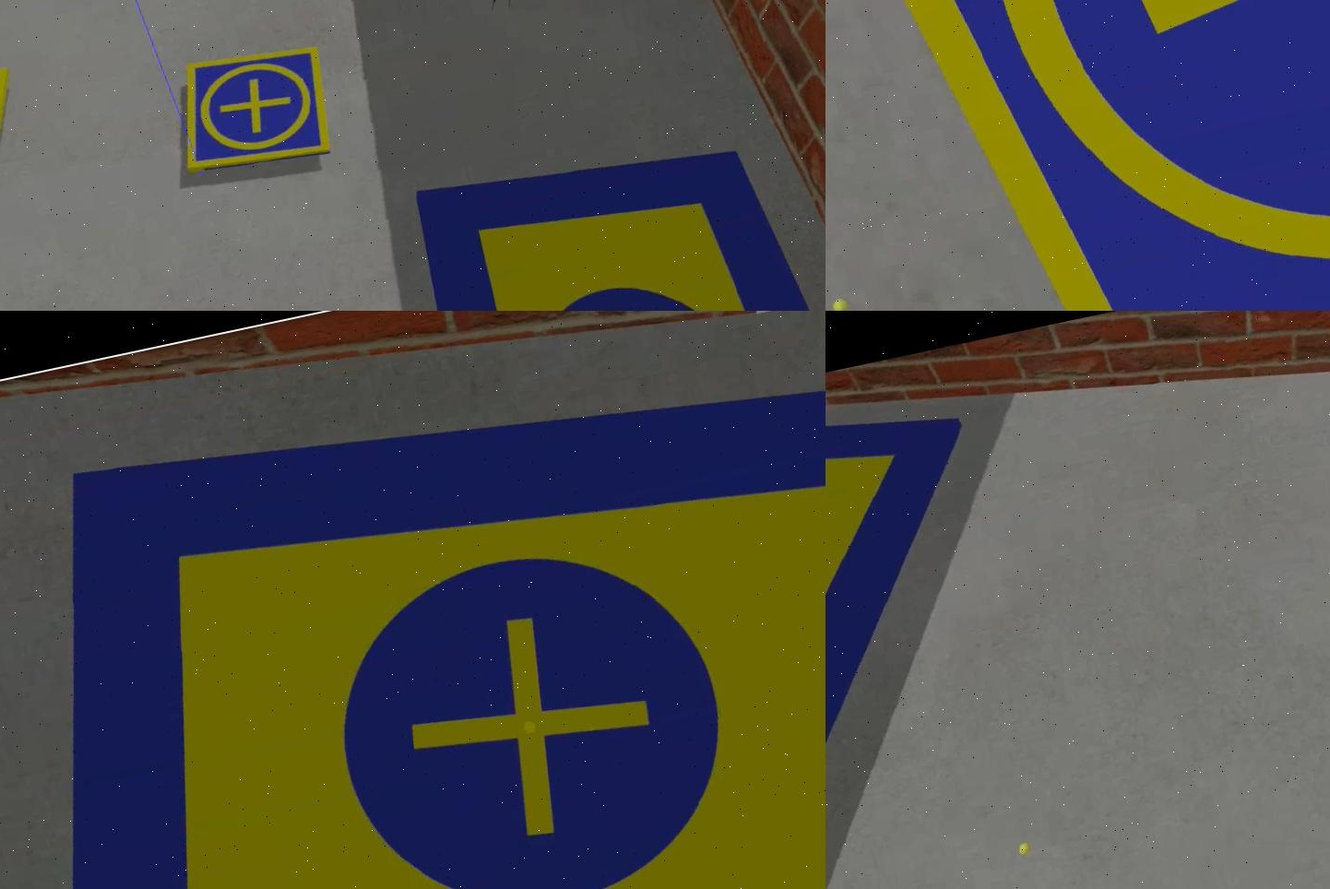large_base: (0, 312, 824, 889), (824, 374, 1041, 887), (394, 99, 824, 312)
small_base: (824, 1, 1328, 312), (162, 40, 343, 190)
